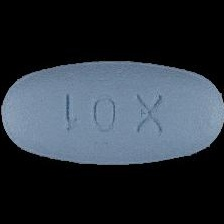50436-5604: (0, 0, 224, 224)
